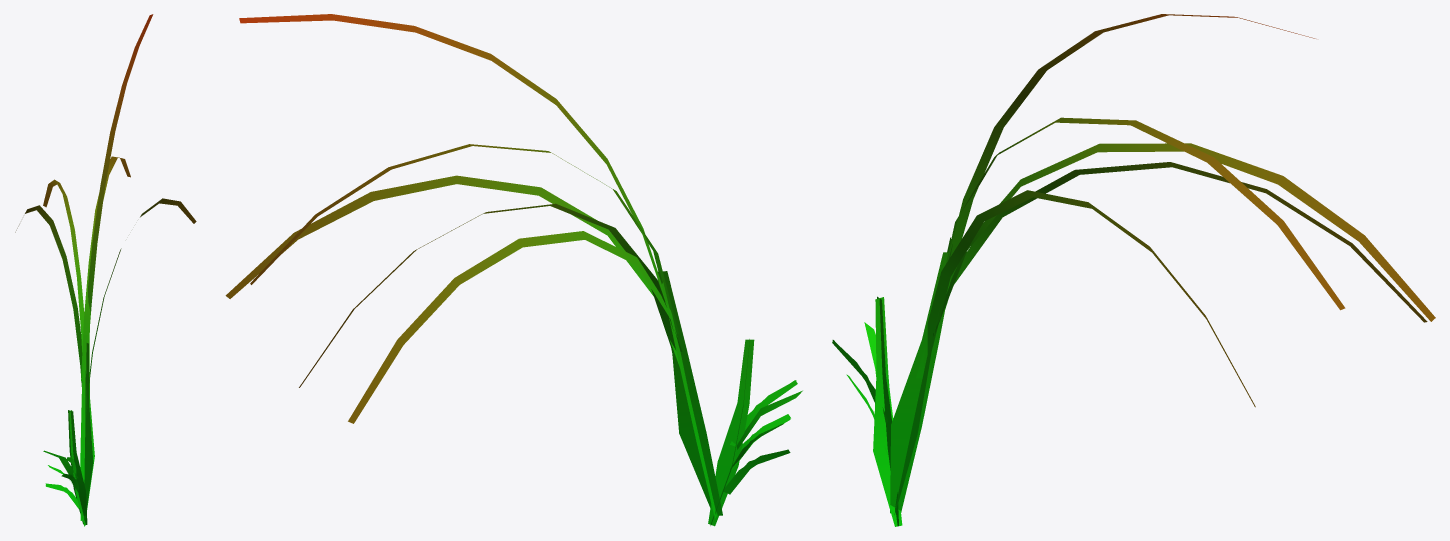
File: Sea Wheatgrass_LOD1_Var17_ui2oagjia.fbx
3 renders of one model, left to right at view 1: azimuth 30°, elevation 25°; view 2: azimuth 150°, elevation 25°; view 3: azimuth 270°, elevation 25°, orthographic. The views are drawn at different scales.
Visible parts, largest first — view 1: _1676_Var17_LOD1; view 2: _1676_Var17_LOD1; view 3: _1676_Var17_LOD1.
Part boxes in pixels (x1,y1,x2,y2): _1676_Var17_LOD1: [15, 14, 196, 526]; _1676_Var17_LOD1: [225, 14, 802, 526]; _1676_Var17_LOD1: [832, 14, 1435, 526].
Size of the model in its own units: 23.6 by 31.92 by 26.95.
